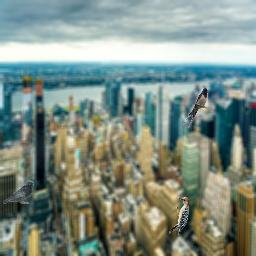Crow: (3, 181, 34, 204)
Swallow: (183, 88, 208, 128)
Woodpecker: (168, 195, 191, 235)
